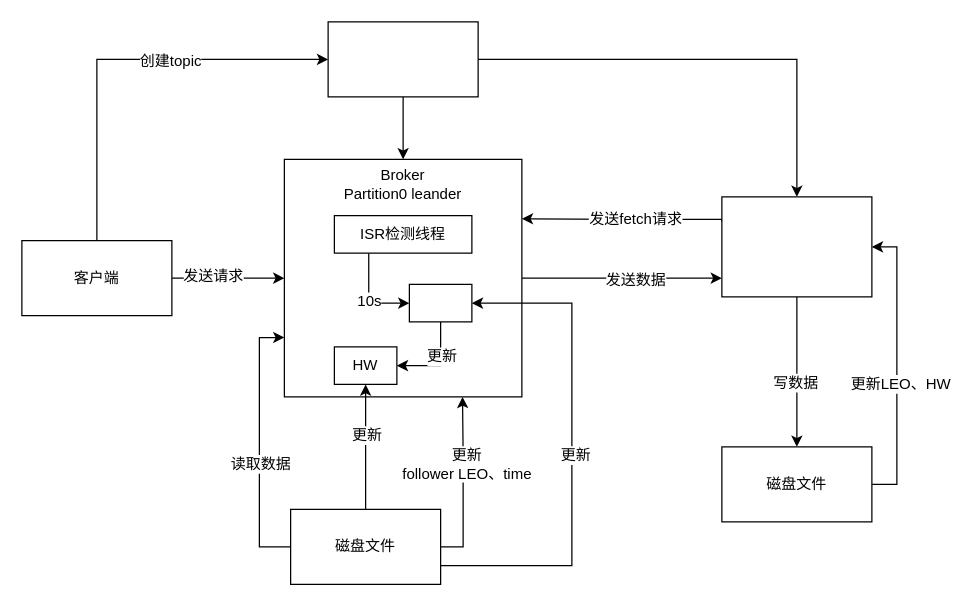
Image size: 971x606. Some labels were removed from this diagram. The box of each missing label's shape, as (x1, y1, x2, y2) in pixels:
Broker Partition0 follower: (721, 196, 872, 297)
ISR: (408, 283, 472, 322)
zookeeper集群: (327, 21, 478, 97)
